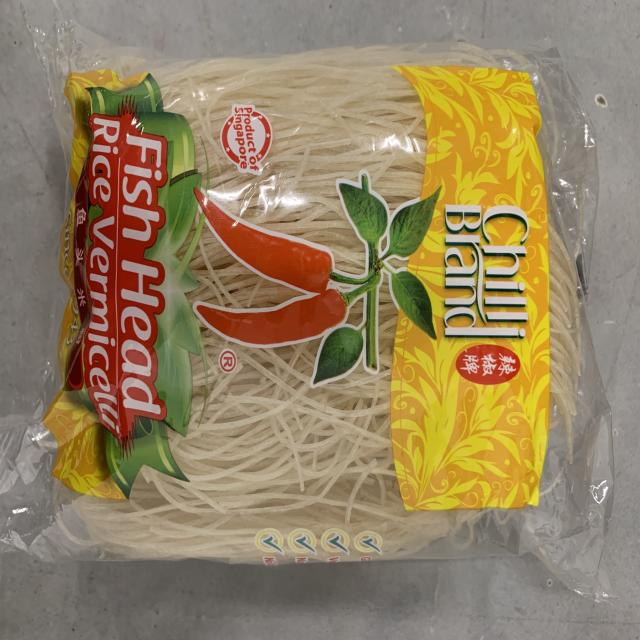object_name: (51, 57, 576, 565)
